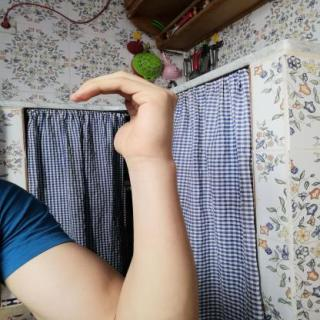HAA: (60, 65, 194, 167)
